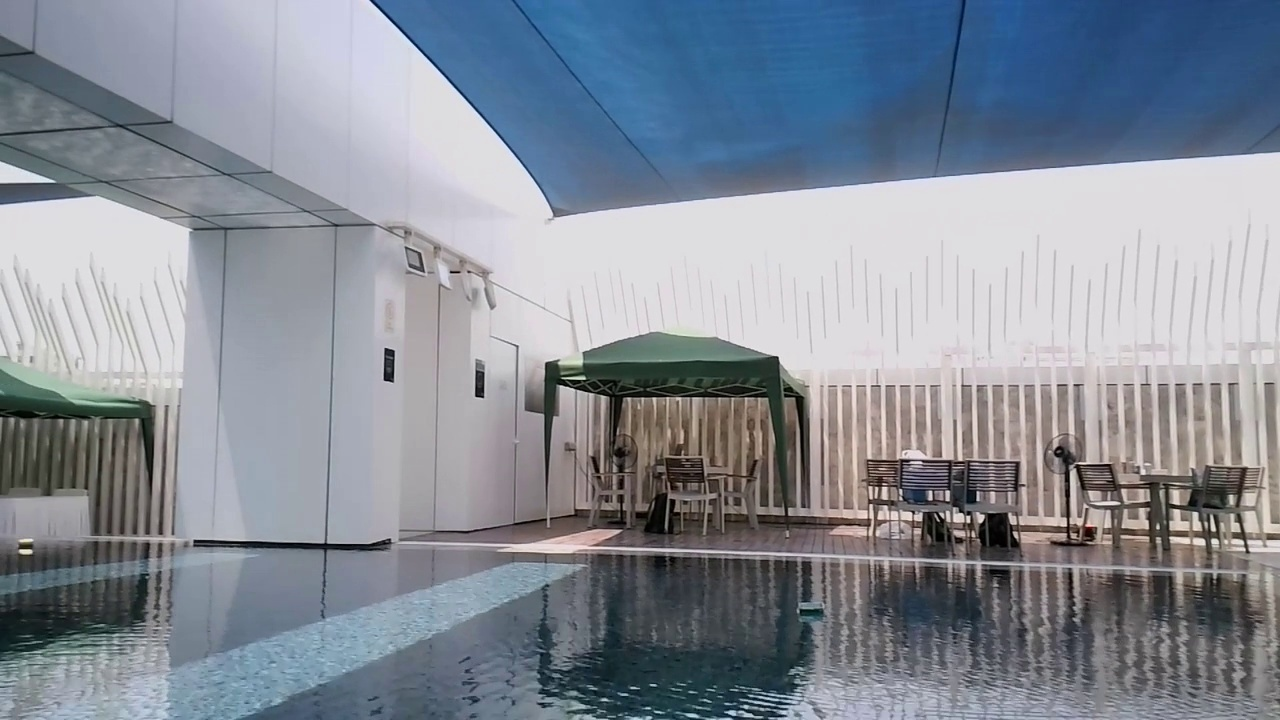debris: (795, 598, 828, 625), (13, 535, 37, 553)
